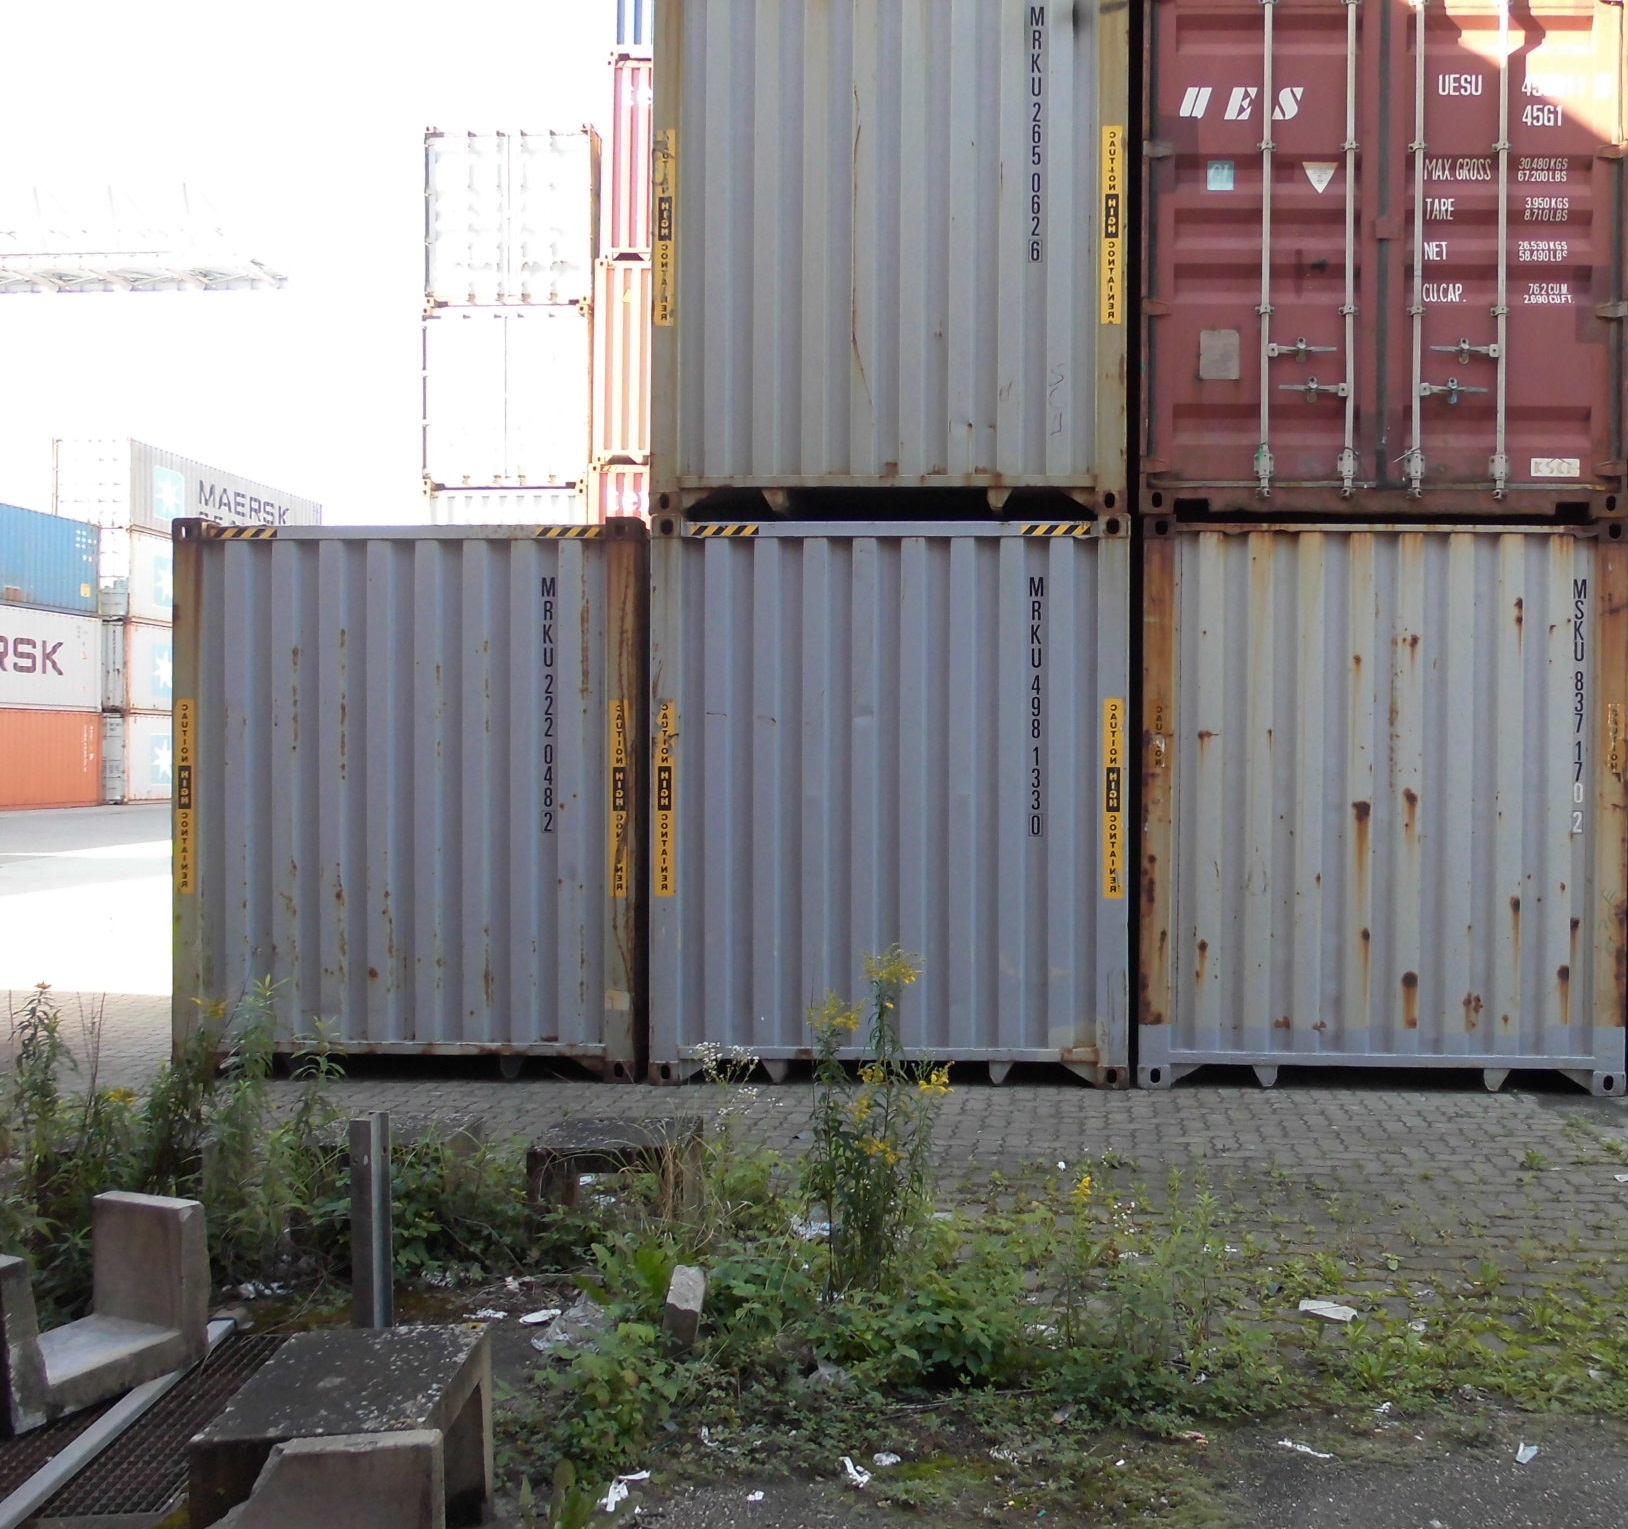container_door: (1137, 4, 1628, 514)
container_no_door: (654, 519, 1128, 1091), (1142, 522, 1617, 1094), (159, 525, 637, 1069), (649, 1, 1128, 516)
